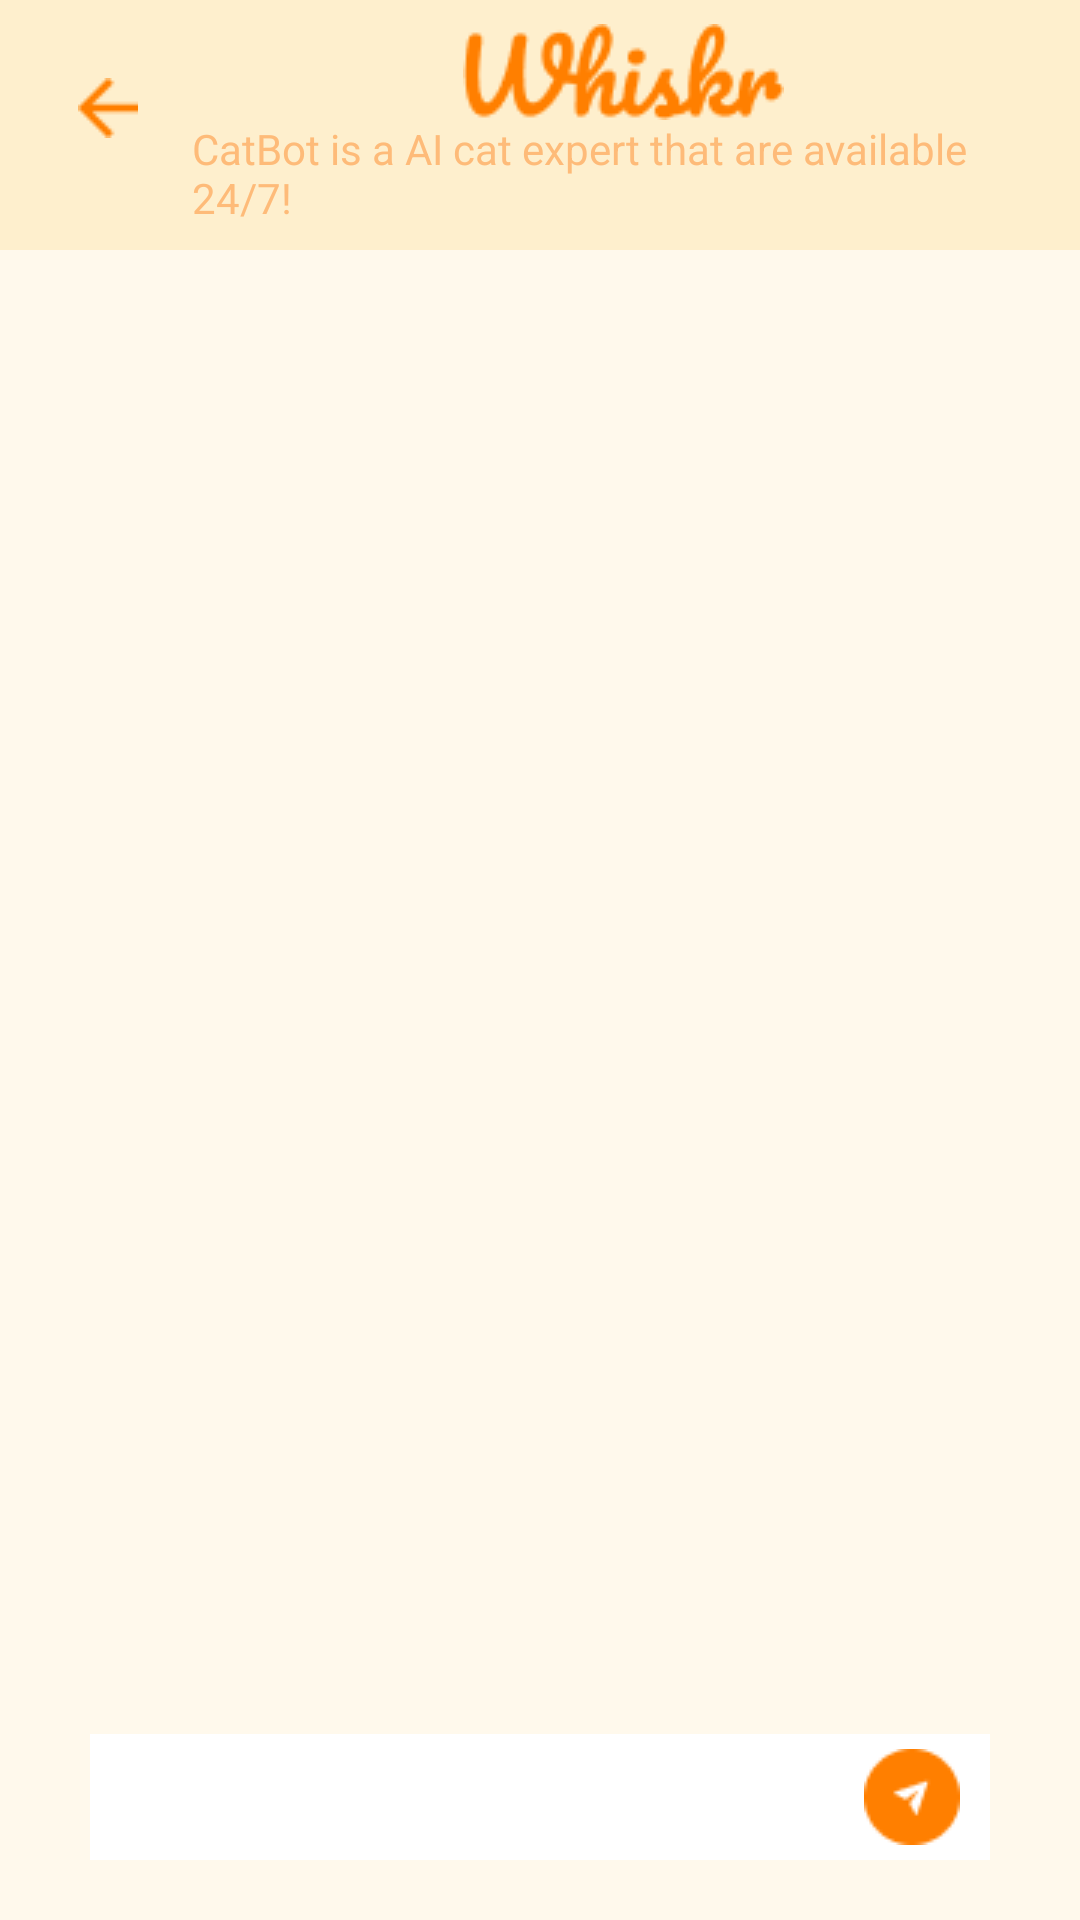

Locate icon controls on the screen. Image size 1080 × 1920, boxes as (x1, y1, x2, y2).
send message: (864, 1749, 960, 1845)
